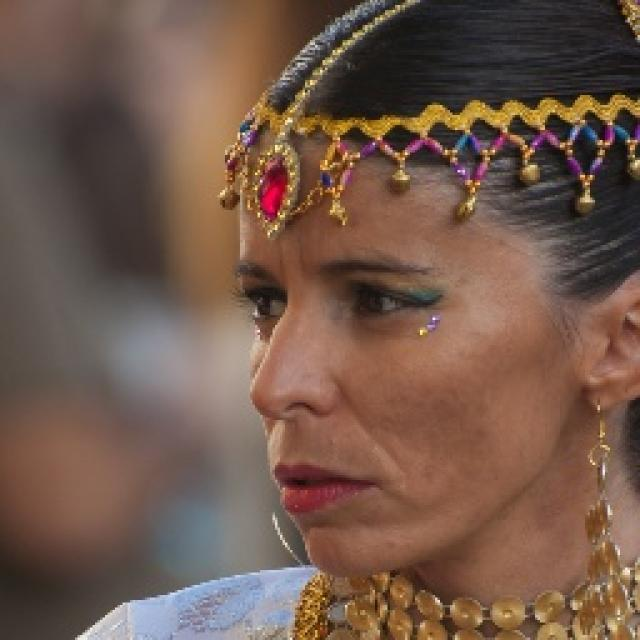earlobe: (584, 283, 640, 416)
